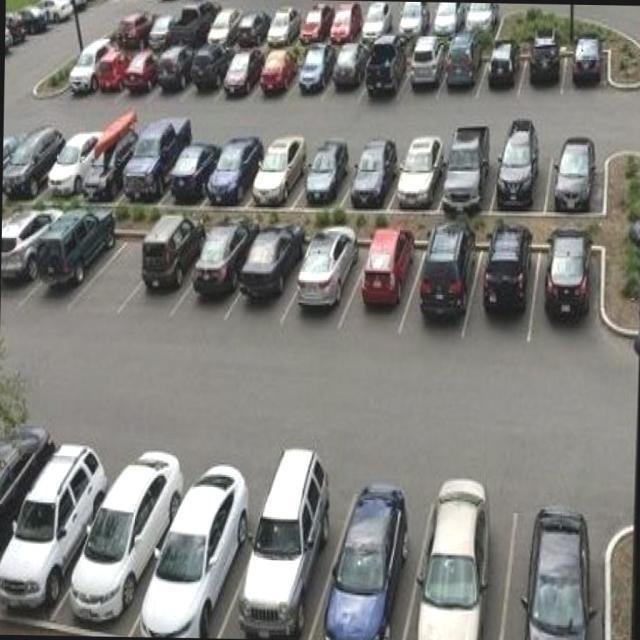space-empty: (76, 216, 154, 313)
space-occupied: (60, 440, 178, 637), (0, 423, 109, 629), (149, 468, 259, 638), (236, 473, 336, 639), (408, 489, 517, 640), (318, 485, 421, 640), (497, 513, 607, 640), (0, 406, 52, 625), (397, 229, 482, 351), (282, 226, 370, 335), (346, 227, 430, 340), (31, 206, 121, 309), (465, 234, 543, 352), (534, 230, 604, 351), (128, 213, 209, 314), (229, 220, 305, 326), (180, 216, 250, 318), (112, 117, 181, 210), (1, 200, 62, 302), (495, 120, 551, 221), (547, 121, 602, 221), (75, 121, 132, 213), (2, 119, 60, 207), (163, 126, 218, 217), (202, 128, 260, 212), (40, 117, 94, 207), (246, 133, 306, 213), (293, 129, 348, 215), (441, 127, 493, 217), (388, 130, 442, 216), (337, 133, 389, 219), (358, 38, 409, 108), (480, 34, 525, 104), (443, 35, 485, 110), (523, 27, 565, 100), (565, 34, 608, 103), (406, 32, 444, 110), (64, 25, 103, 98), (294, 37, 334, 108), (188, 37, 230, 103), (259, 41, 299, 107), (97, 30, 132, 103), (124, 36, 160, 106), (156, 39, 192, 105), (226, 44, 263, 107), (331, 37, 365, 102), (168, 1, 216, 46), (263, 0, 305, 48), (110, 0, 150, 47), (459, 3, 507, 42), (326, 1, 366, 46), (297, 1, 337, 46), (202, 0, 240, 47), (144, 0, 179, 49), (357, 1, 398, 42), (233, 1, 268, 46), (428, 2, 467, 41), (393, 2, 430, 38), (18, 14, 64, 37), (30, 3, 76, 26), (3, 117, 14, 201), (5, 30, 48, 50), (60, 0, 100, 11), (5, 37, 18, 63)
